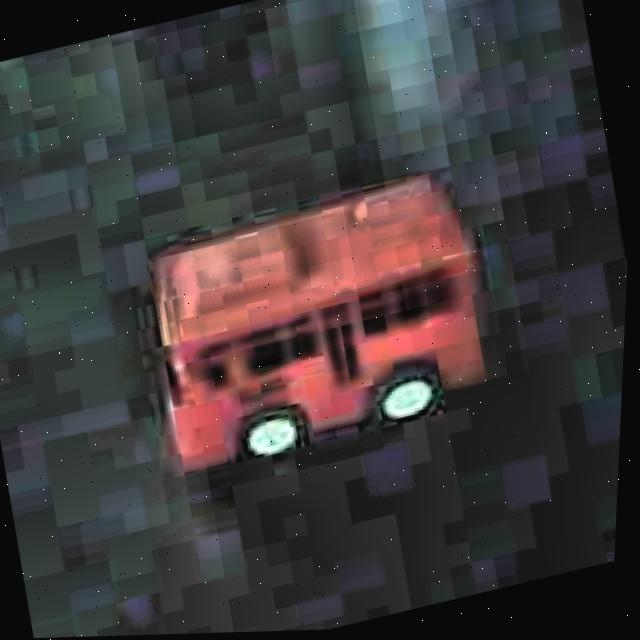bus: (109, 157, 518, 499)
